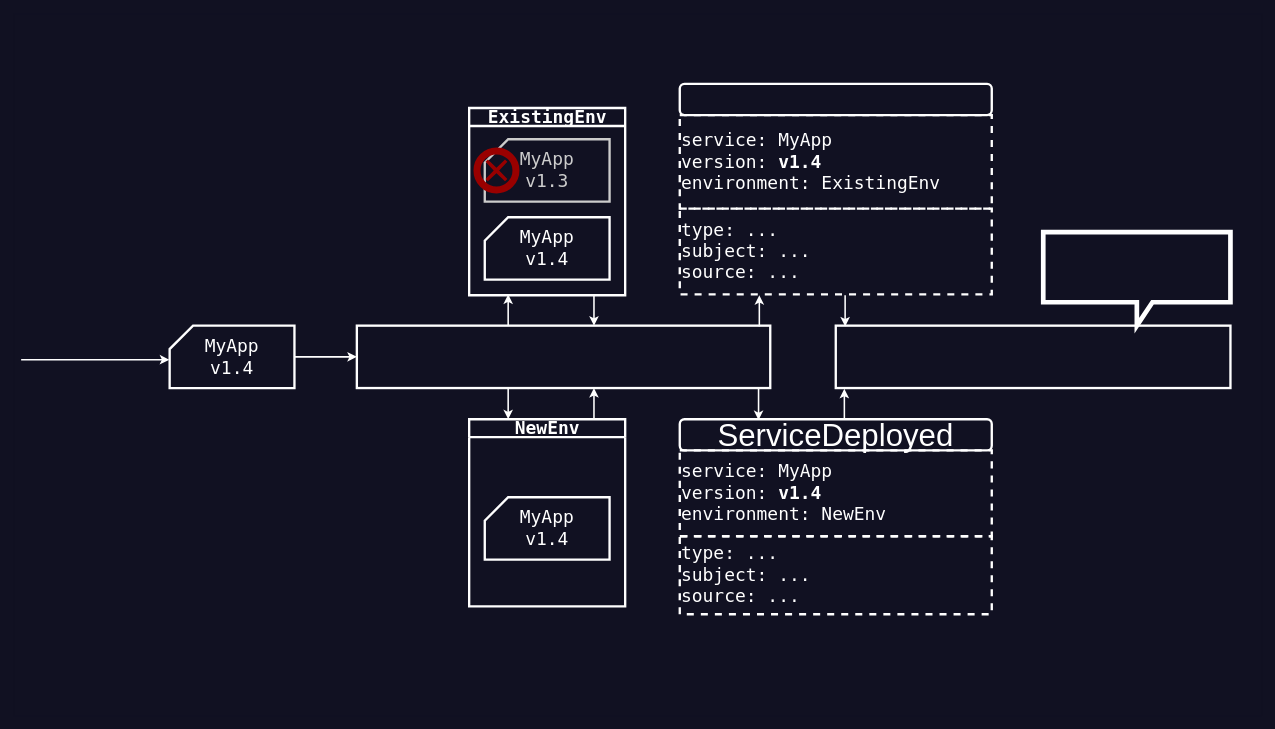
Some shapes in this 1275 by 729 pixel diagram are drawn without their labels. The shapes that lost their labels are listed below. From the top down, each one's centre as x and y in pixels, then its label:
At [835,99]: "ServiceUpgraded".
At [1136,278]: "Deployment Frequency!".
At [563,356]: "Orchestrator".
At [1032,356]: "Observer".
